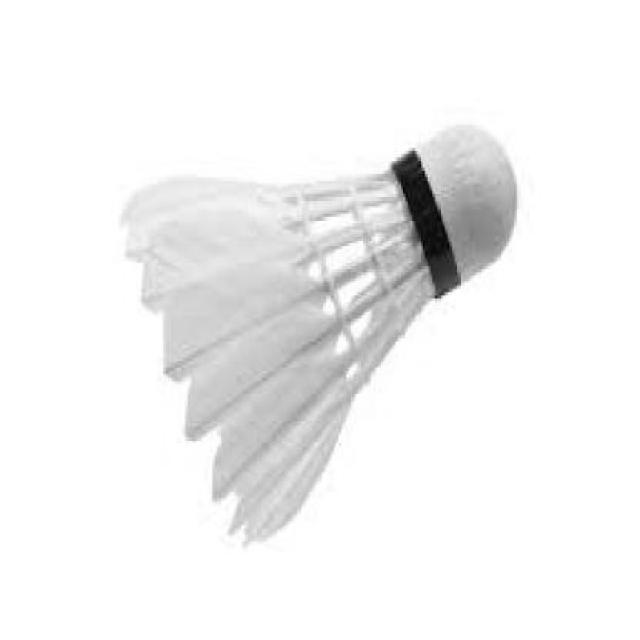Shuttlecock: (120, 123, 520, 546)
